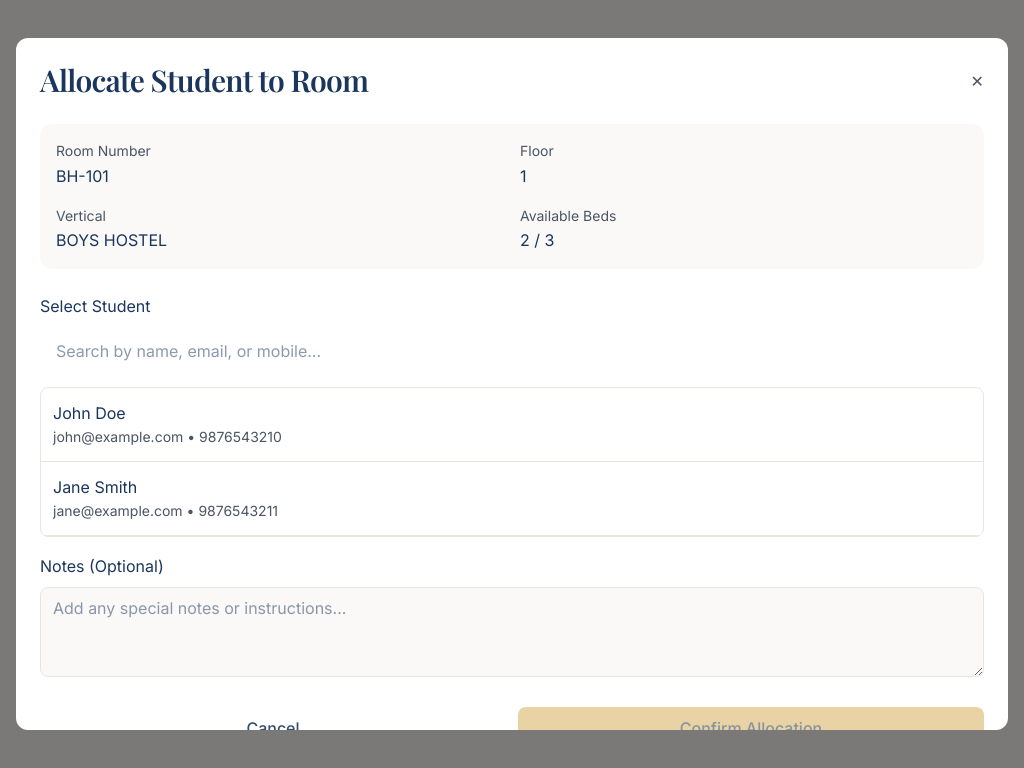
Test: Task 17 - Allocation Modal › 17.18 - should show allocation summary when student selected
Check: the text "John Doe" is shown, box left=53, top=403, right=126, bottom=423
Click the button "John Doe john@example.com • 9876543210".
click(89, 413)  # box left=41, top=388, right=983, bottom=462
(page scrolled)
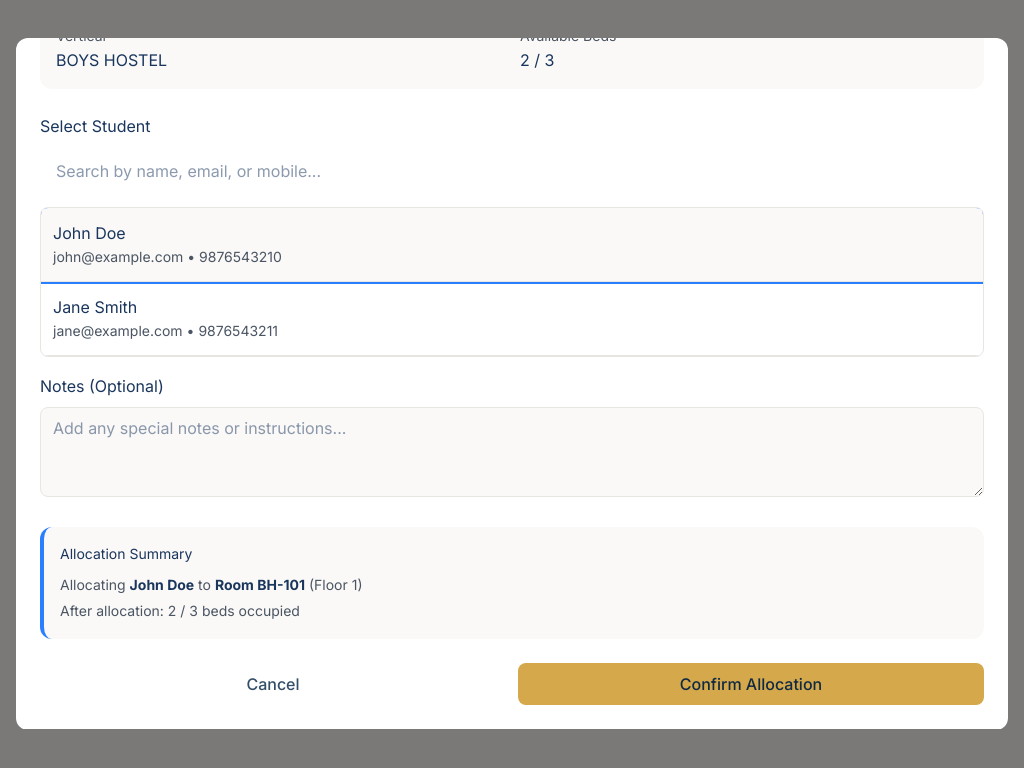
Check: the text "John Doe" below "Select Student" is shown, box left=53, top=223, right=126, bottom=243
Check: the text "Allocating John Doe to Room BH-101 (Floor 1)" is shown, box left=60, top=576, right=362, bottom=593
Check: the text "Room BH-101" is shown, box left=215, top=576, right=305, bottom=593
